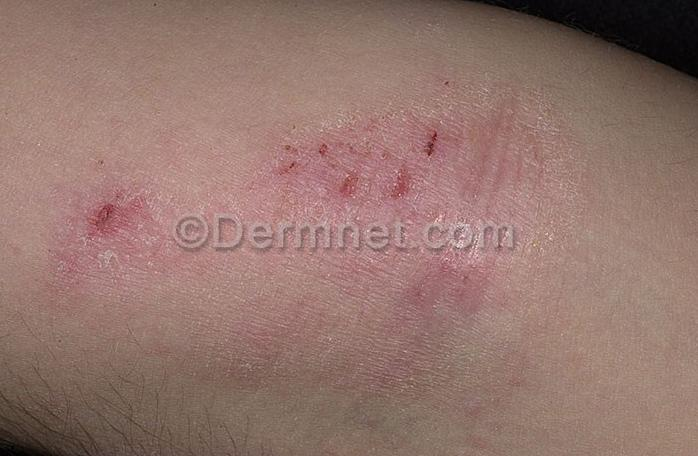Eritema 2: (54, 84, 571, 370)
excoriacion 2: (51, 75, 580, 392)
xerosis 2: (46, 83, 584, 396)
